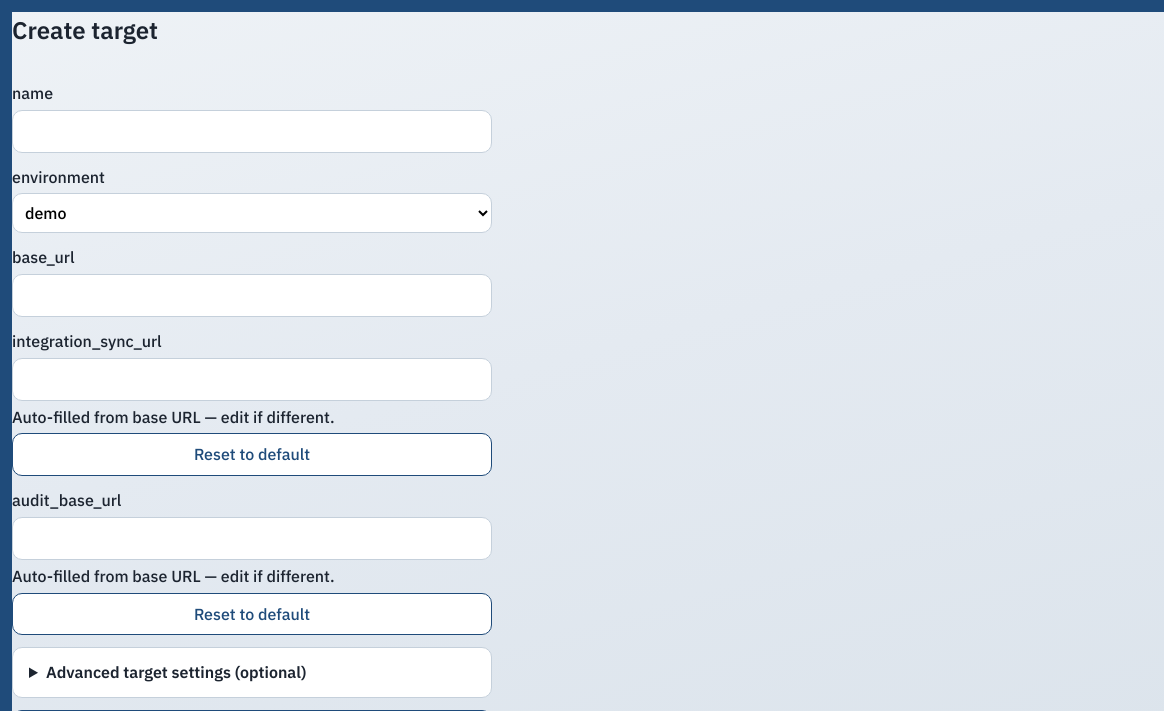
Scenario: CreateTargetForm pristine auto-fill › auto-fills from base_url, preserves edited sync URL, and reset restores default
The width and height of the screenshot is (1164, 711).
Type "http://127.0.0.1:8001/" into the field labelled "base_url".
click(252, 296); type("http://127.0.0.1:8001/")  # box [12,274,492,317]
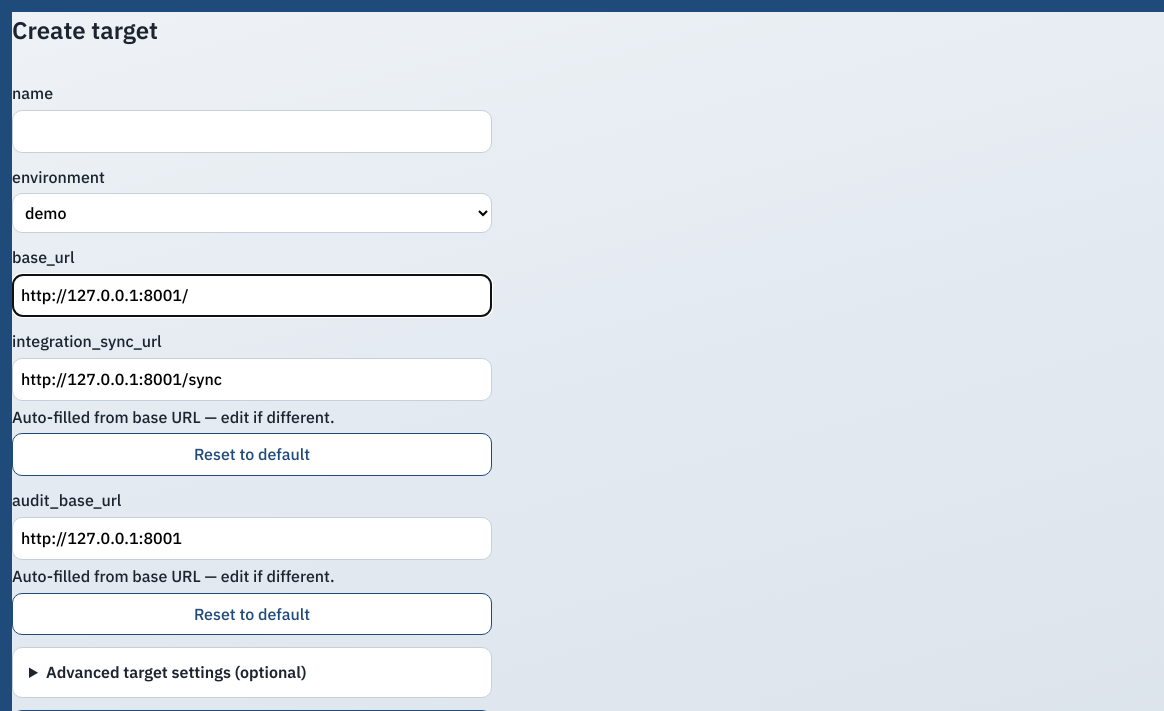
Result: the field labelled "integration_sync_url" holds "http://127.0.0.1:8001/sync"
Result: the field labelled "audit_base_url" holds "http://127.0.0.1:8001" at [12,517,492,560]
Replace the text in the field labelled "integration_sync_url" with "http://custom.example/sync" at (252, 379), box [12,358,492,401]
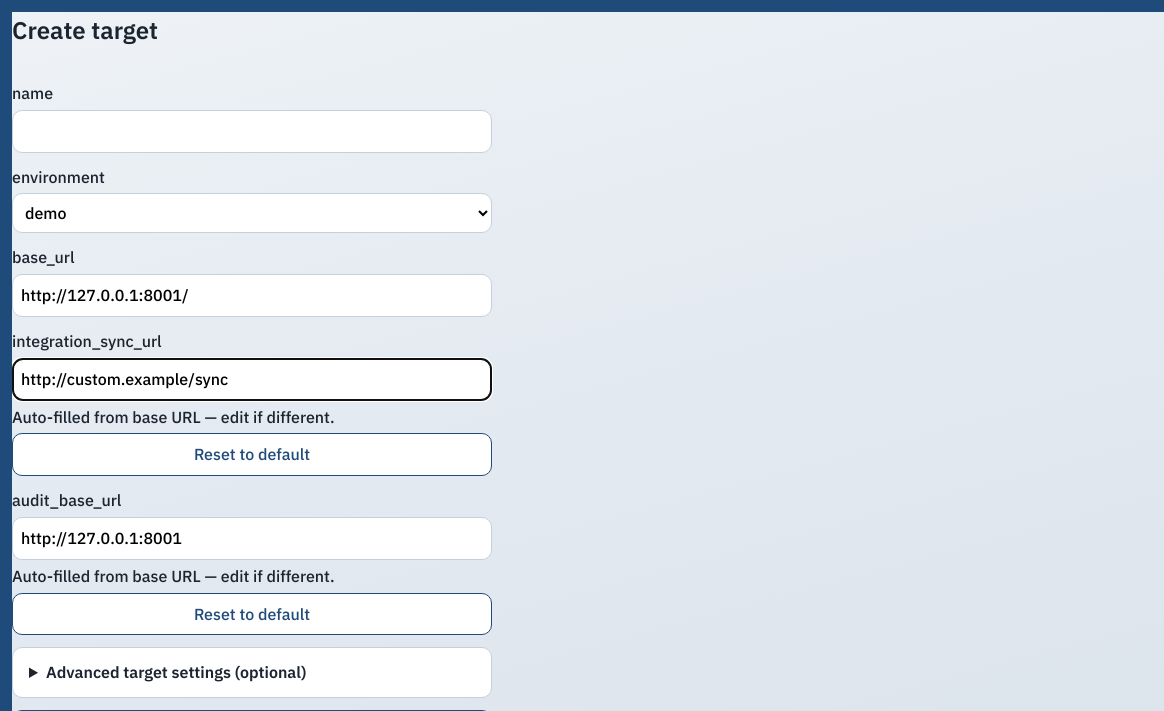
Replace the text in the field labelled "base_url" with "http://127.0.0.1:9000/" at (252, 296), box [12,274,492,317]
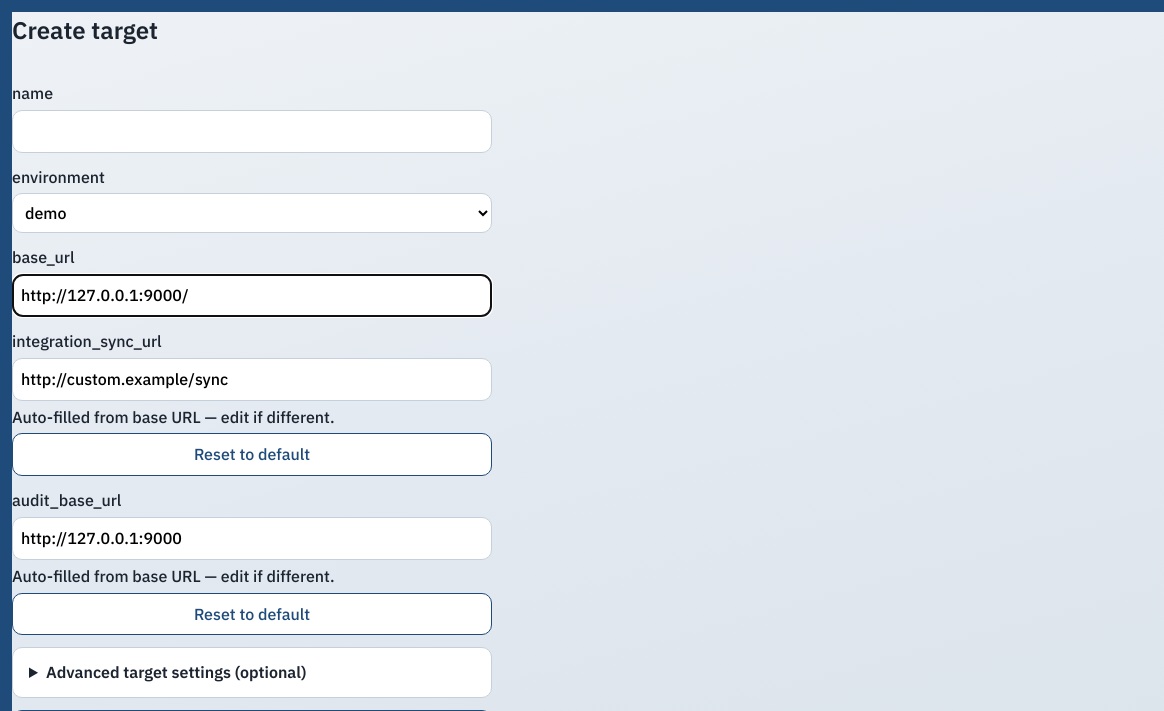
Result: the field labelled "audit_base_url" holds "http://127.0.0.1:9000" at [12,517,492,560]
Click the button "Reset to default" below "integration_sync_url".
click(252, 455)  # box [12,434,492,476]
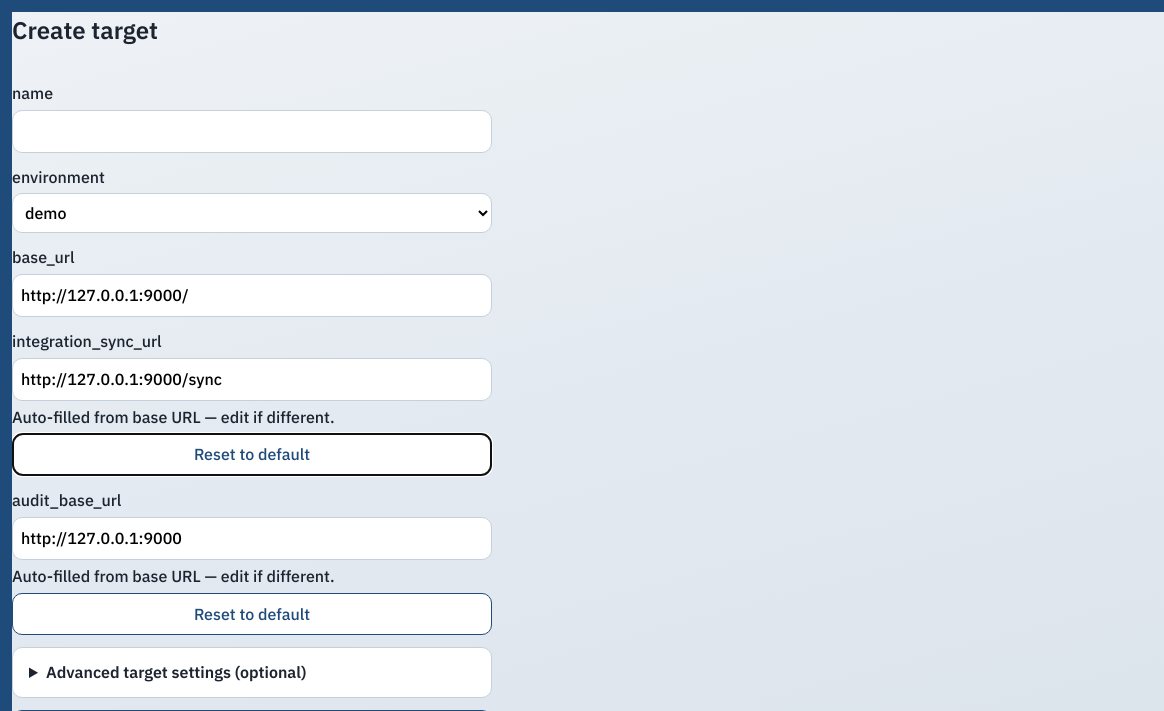
Result: the field labelled "integration_sync_url" holds "http://127.0.0.1:9000/sync" at [12,358,492,401]
